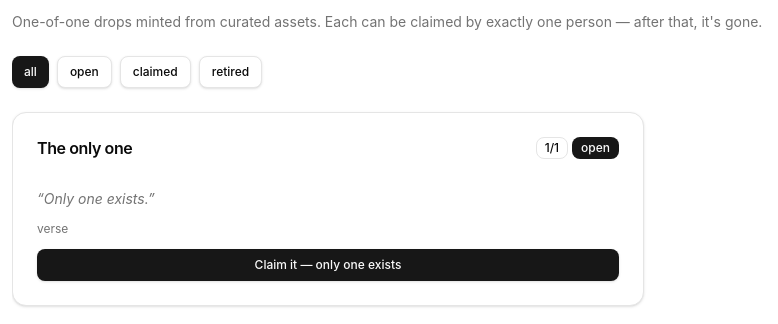
it: OffersBoard claim outcomes › under the open filter, where a refetch removes the card › reports the result when the user switches to a filter that fails to load
Click the button "Claim it — only one exists" at (328, 265), box left=37, top=249, right=619, bottom=281
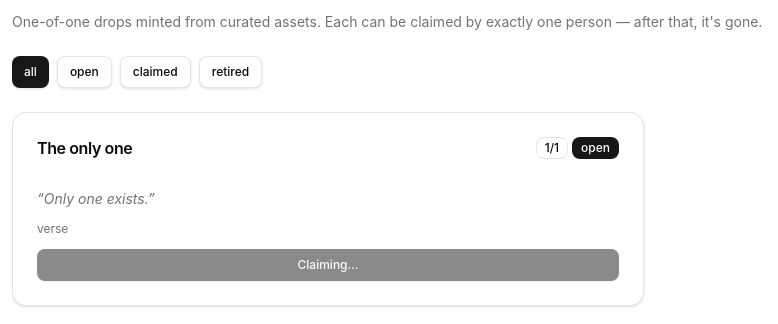
Click the button "retired" at (230, 72), box left=199, top=56, right=262, bottom=88
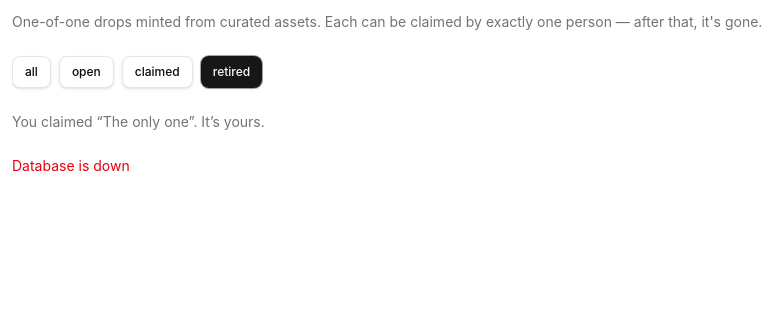
Now the text "Database is down" is shown, box left=12, top=157, right=130, bottom=174
